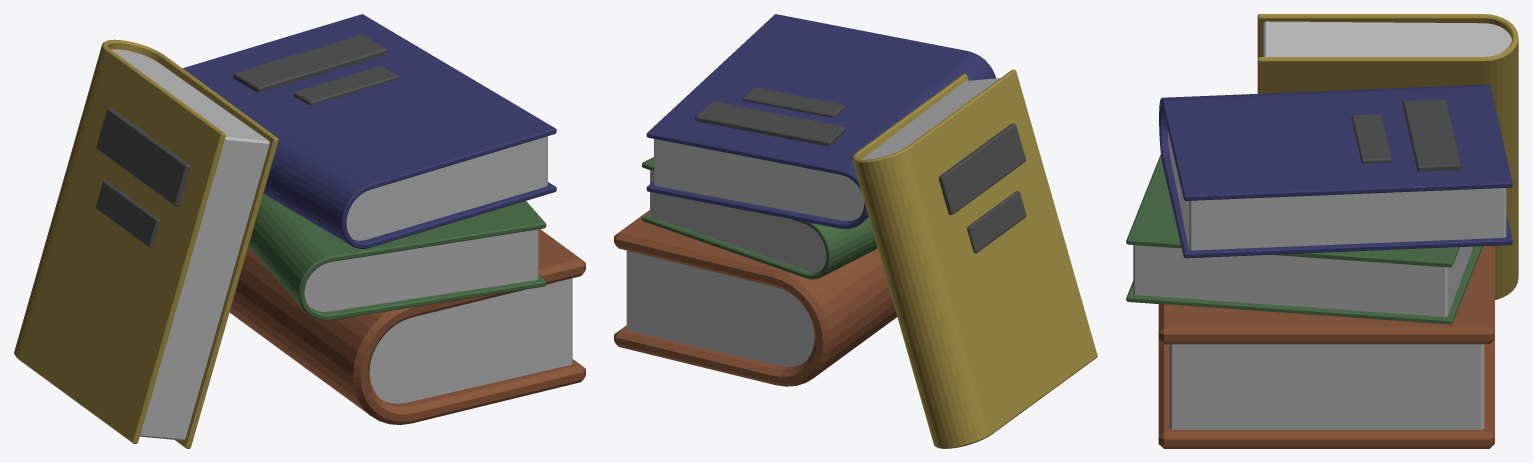
The model's file is books.glb.
3 renders of one model, left to right at view 1: azimuth 30°, elevation 25°; view 2: azimuth 150°, elevation 25°; view 3: azimuth 270°, elevation 25°, orthographic. The views are drawn at different scales.
Parts seen in each view (by area): view 1: Cylinder.003, Cylinder.002, Cylinder, Cylinder.001; view 2: Cylinder.003, Cylinder.002, Cylinder, Cylinder.001; view 3: Cylinder.002, Cylinder, Cylinder.001, Cylinder.003.
Part boxes in pixels (bbox=[...]): Cylinder.003: bbox=[14, 39, 278, 448]; Cylinder.002: bbox=[183, 14, 556, 248]; Cylinder: bbox=[229, 229, 585, 424]; Cylinder.001: bbox=[248, 194, 546, 320]; Cylinder.003: bbox=[852, 69, 1097, 448]; Cylinder.002: bbox=[646, 14, 995, 228]; Cylinder: bbox=[614, 210, 897, 386]; Cylinder.001: bbox=[642, 157, 877, 279]; Cylinder.002: bbox=[1159, 84, 1512, 258]; Cylinder: bbox=[1158, 245, 1494, 448]; Cylinder.001: bbox=[1126, 154, 1482, 324]; Cylinder.003: bbox=[1257, 14, 1518, 299].
Size of the model in its own units: 3.27 by 2.38 by 2.78.
